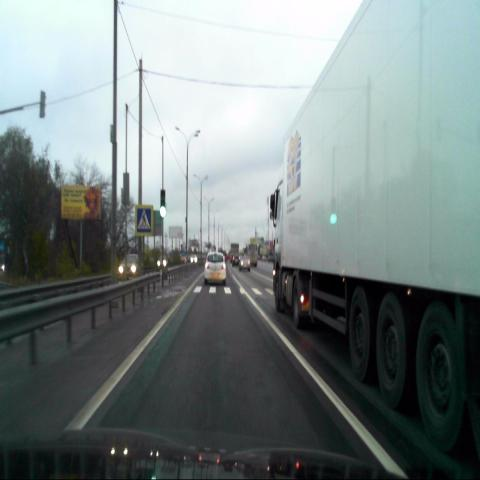5_19_1: (135, 204, 153, 235)
